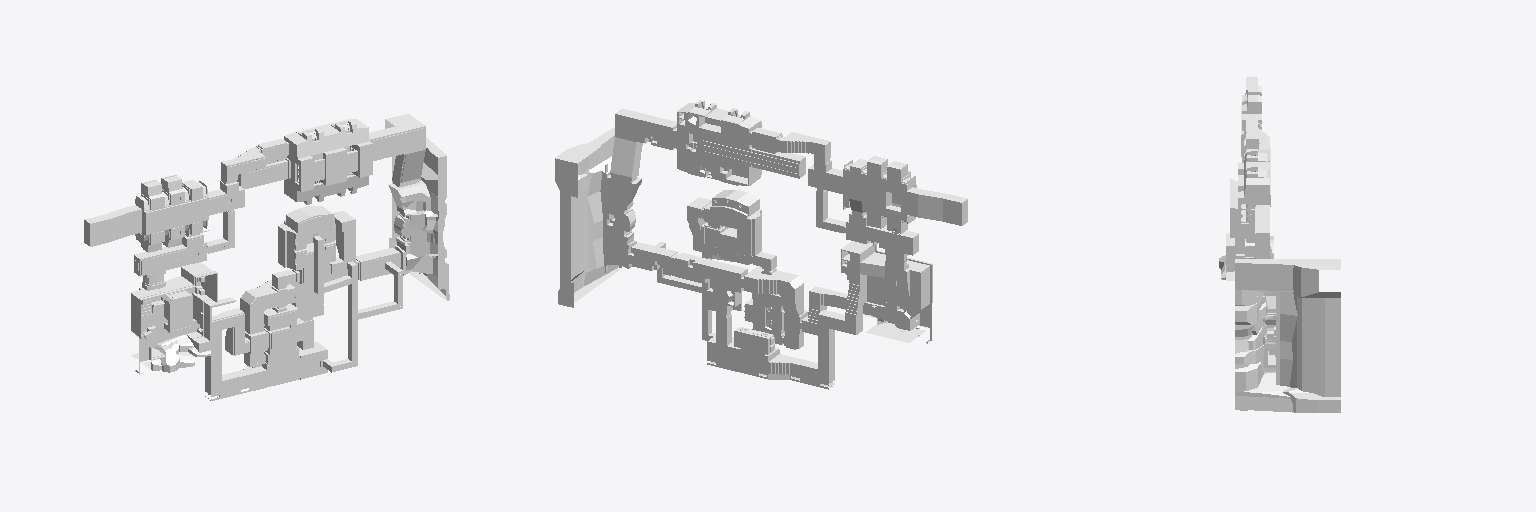
Rendered from Prodigy.obj.
3 renders of one model, left to right at view 1: azimuth 30°, elevation 25°; view 2: azimuth 150°, elevation 25°; view 3: azimuth 270°, elevation 25°, orthographic.
Visible parts, largest first — view 1: BSP_Object.model_0; view 2: BSP_Object.model_0; view 3: BSP_Object.model_0.
Boxes of the visible parts, box(x1,y1,x2,y2) form: BSP_Object.model_0: box(84, 114, 449, 400); BSP_Object.model_0: box(555, 100, 967, 389); BSP_Object.model_0: box(1219, 77, 1340, 412).
Bounding box in the file's own units: 105 × 68 × 30.4.